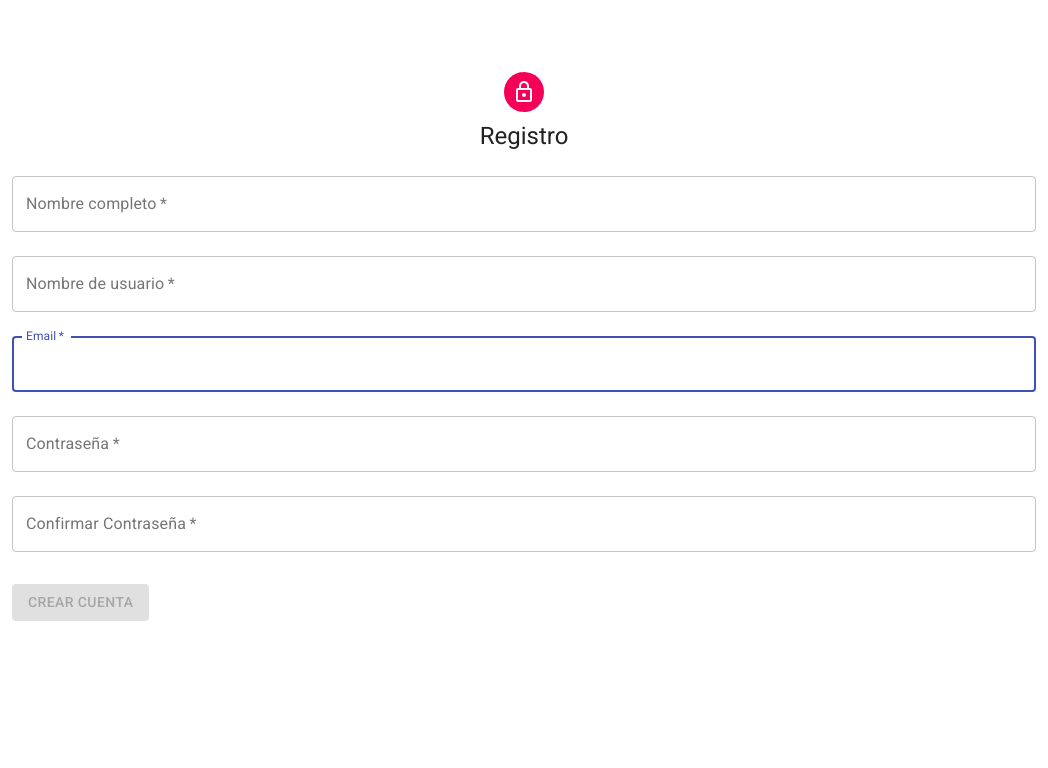
Test: SignUp test › When submitting sign up form › should show username is not available if username exists by verifying if username is available
Type "Full name" into the field with test id "signup-fullNameField" at (524, 204), box x1=12 y1=176 x2=1036 y2=232
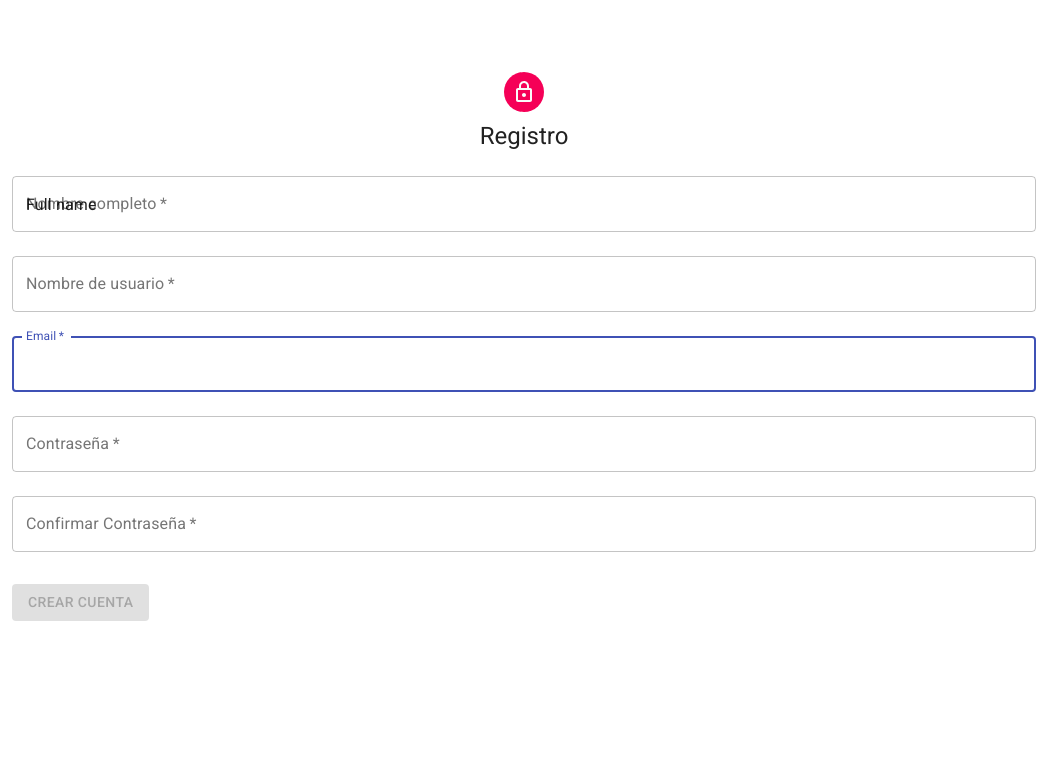
Type "username" into the field with test id "signup-usernameField" at (524, 284), box x1=12 y1=256 x2=1036 y2=312
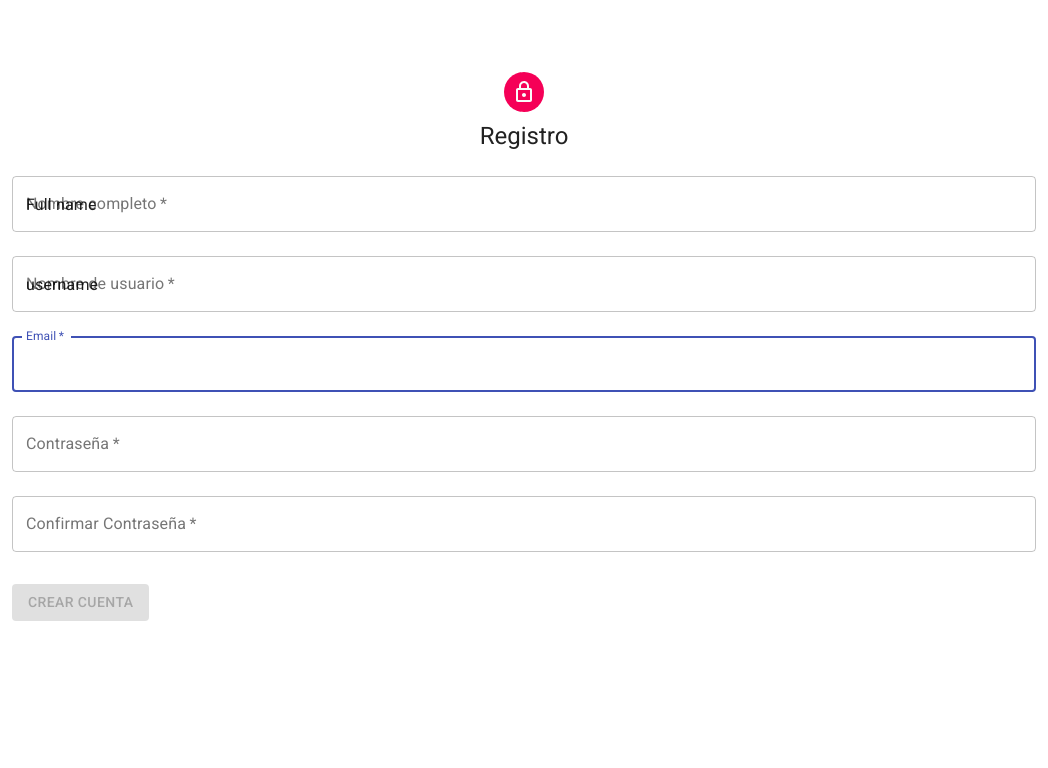
Type "mockEmail@test.com" into the field with test id "signup-emailField" at (524, 364), box x1=12 y1=336 x2=1036 y2=392
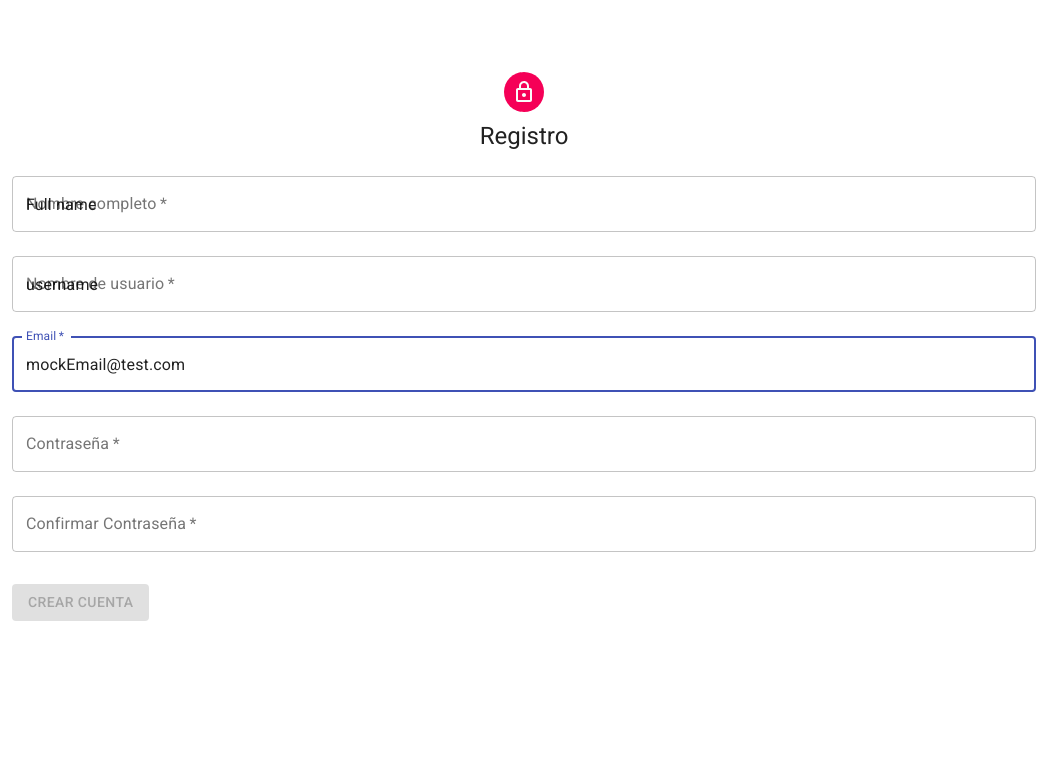
Type "pass1" into the password field with test id "signup-passwordField" at (524, 444), box x1=12 y1=416 x2=1036 y2=472
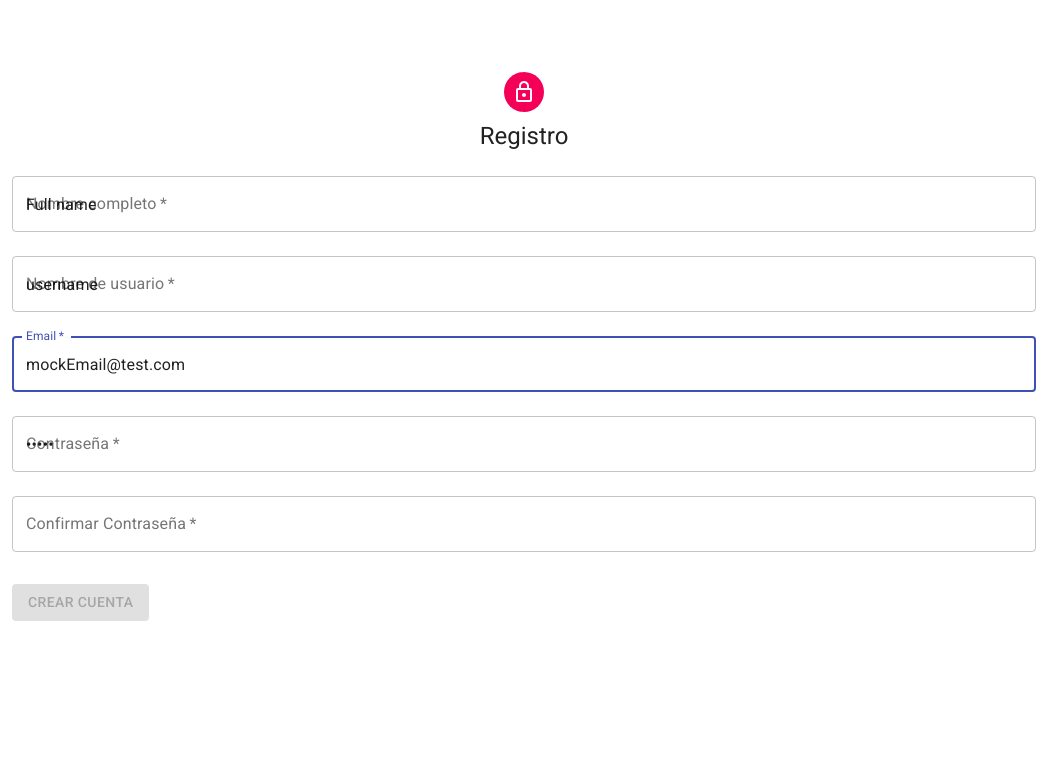
Type "pass1" into the password field with test id "signup-repeatPasswordField" at (524, 524), box x1=12 y1=496 x2=1036 y2=552
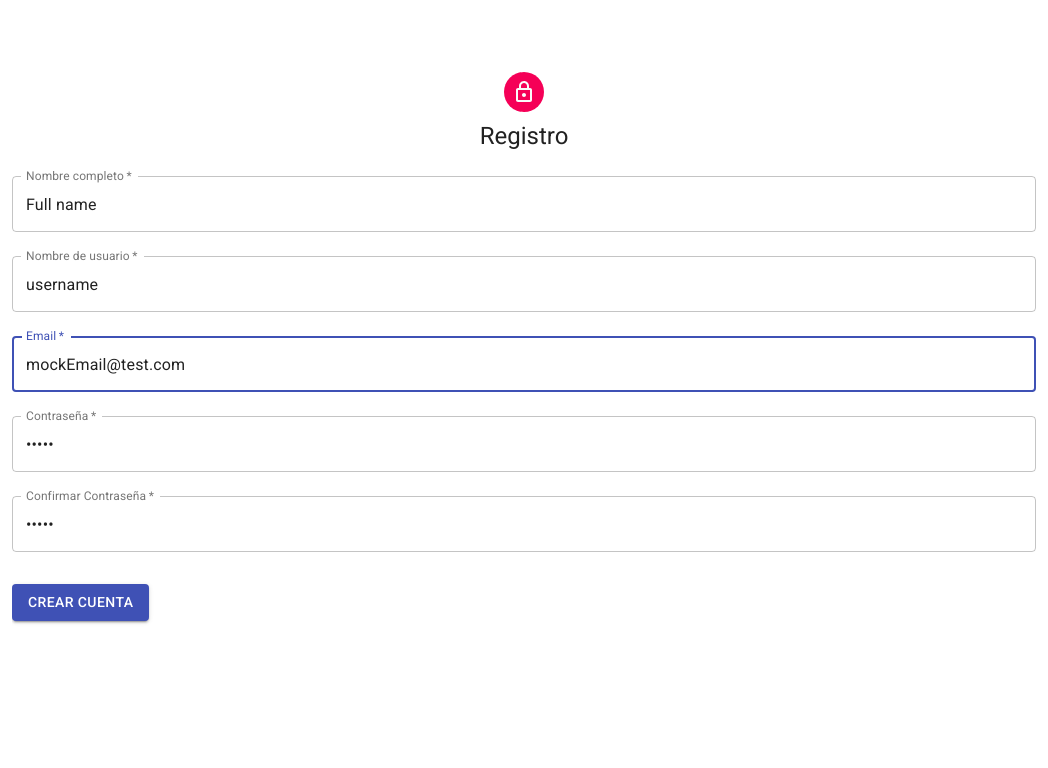
Click the button with test id "signup-submitButton" at (81, 602), box x1=12 y1=584 x2=149 y2=620
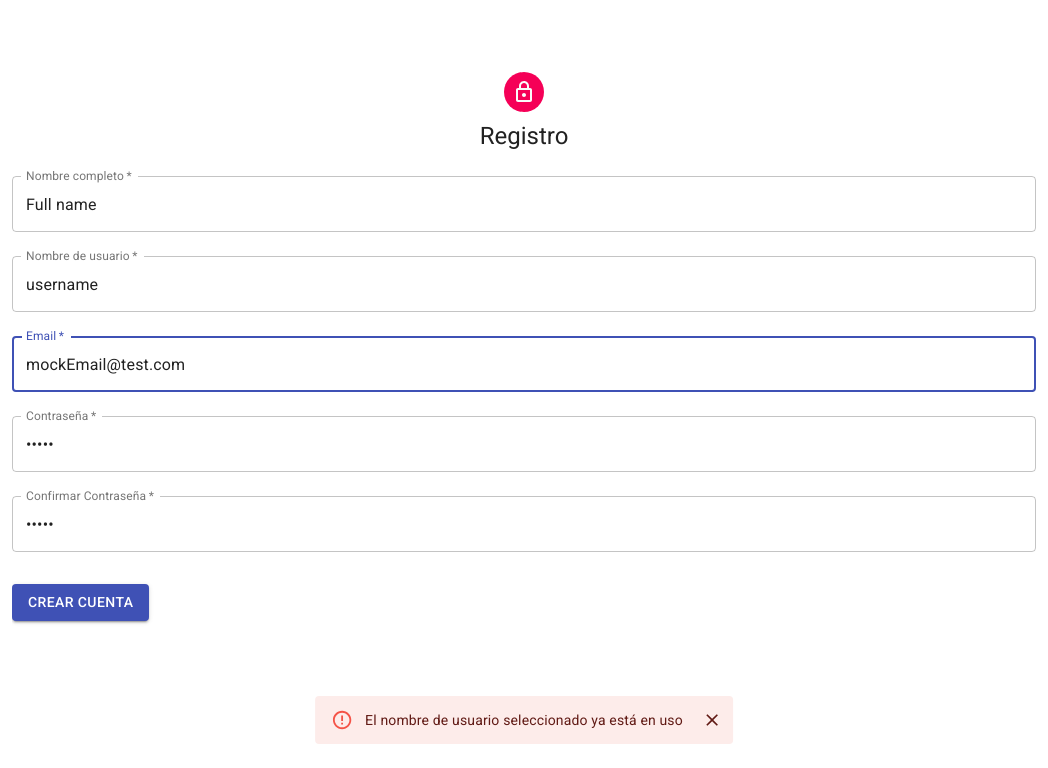
Expected: the element with test id "signup-usernameNotAvailable" is shown, x1=315 y1=696 x2=733 y2=744
